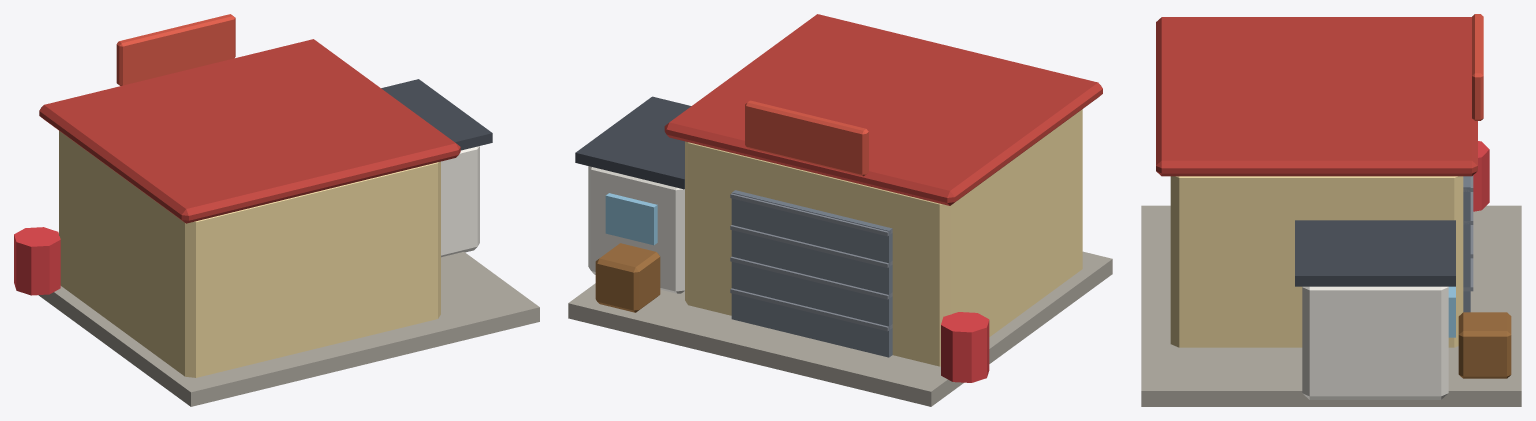
The model's file is garage_l1.glb.
The picture shows the model from 3 angles, left to right: view 1: azimuth 30°, elevation 25°; view 2: azimuth 150°, elevation 25°; view 3: azimuth 270°, elevation 25°; orthographic projection. The views are drawn at different scales.
Parts seen in each view (by area): view 1: garage_l1; view 2: garage_l1; view 3: garage_l1.
Part boxes in pixels (x1,y1,x2,y2): garage_l1: (14, 14, 539, 406); garage_l1: (568, 14, 1112, 406); garage_l1: (1141, 14, 1521, 406).
Size of the model in its own units: 3.43 by 1.9 by 2.6.
Materials: 1 (1 with a texture image).
